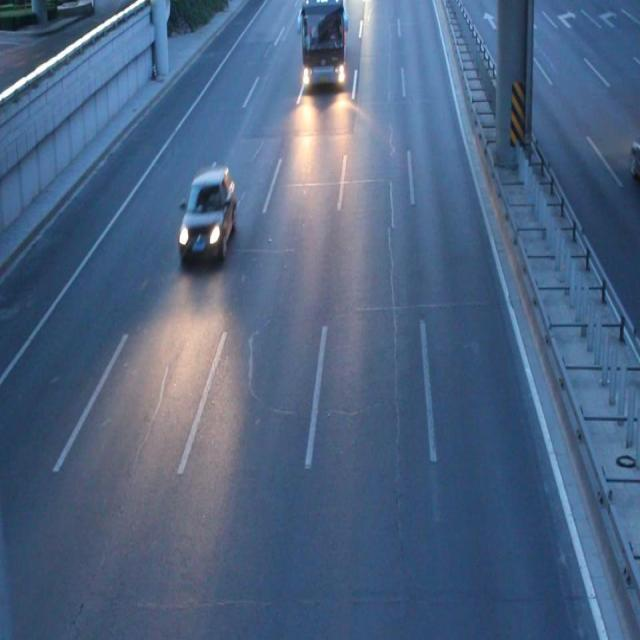car: (178, 168, 235, 264)
van: (298, 1, 348, 91)
